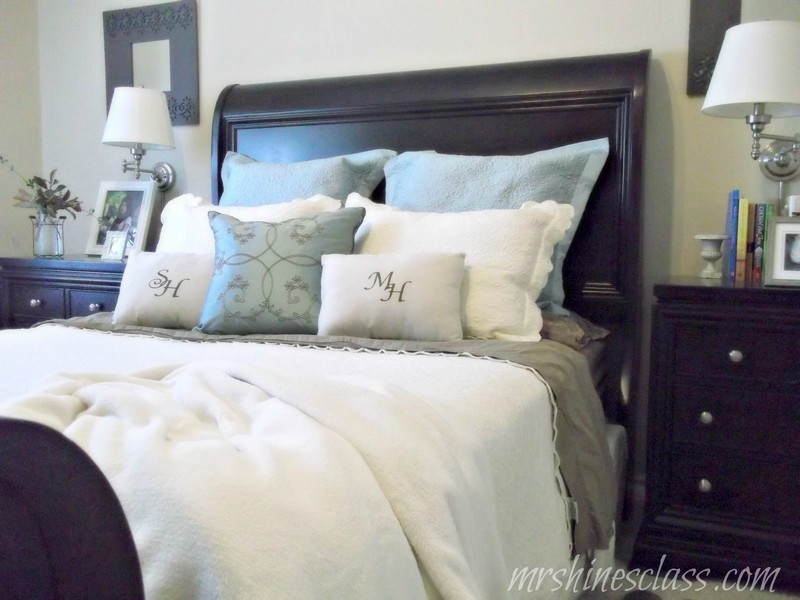bed: (21, 52, 650, 590)
lamp: (703, 17, 800, 186), (98, 84, 186, 203)
stool: (657, 272, 800, 584), (1, 249, 124, 327)
